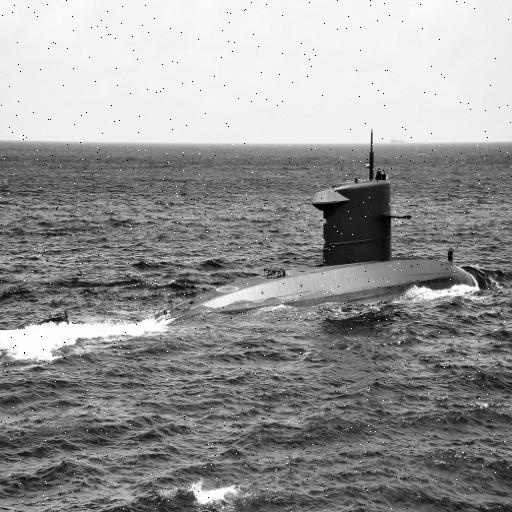submarine: (54, 181, 487, 341)
